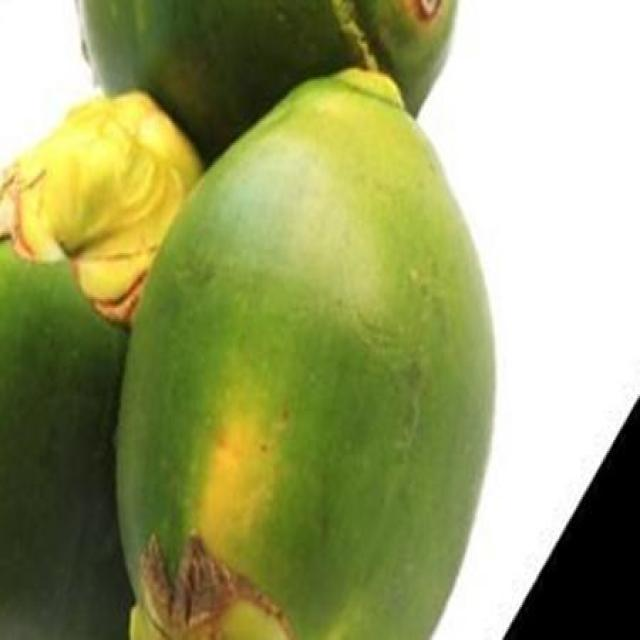good: (112, 70, 499, 638), (0, 95, 201, 638), (77, 0, 458, 171)
